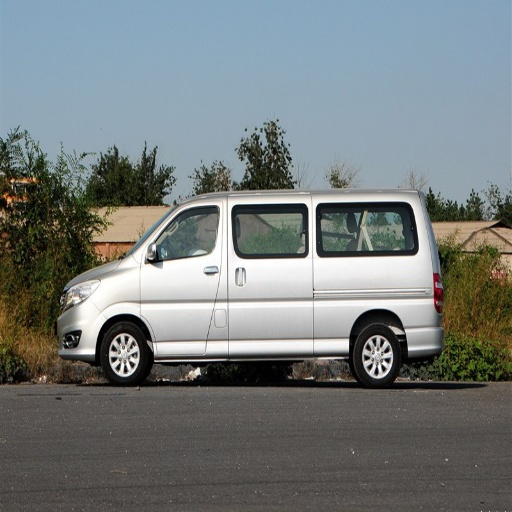back_left_door: (227, 212, 256, 308)
front_left_door: (141, 204, 229, 350)
trunk: (260, 277, 423, 353)
